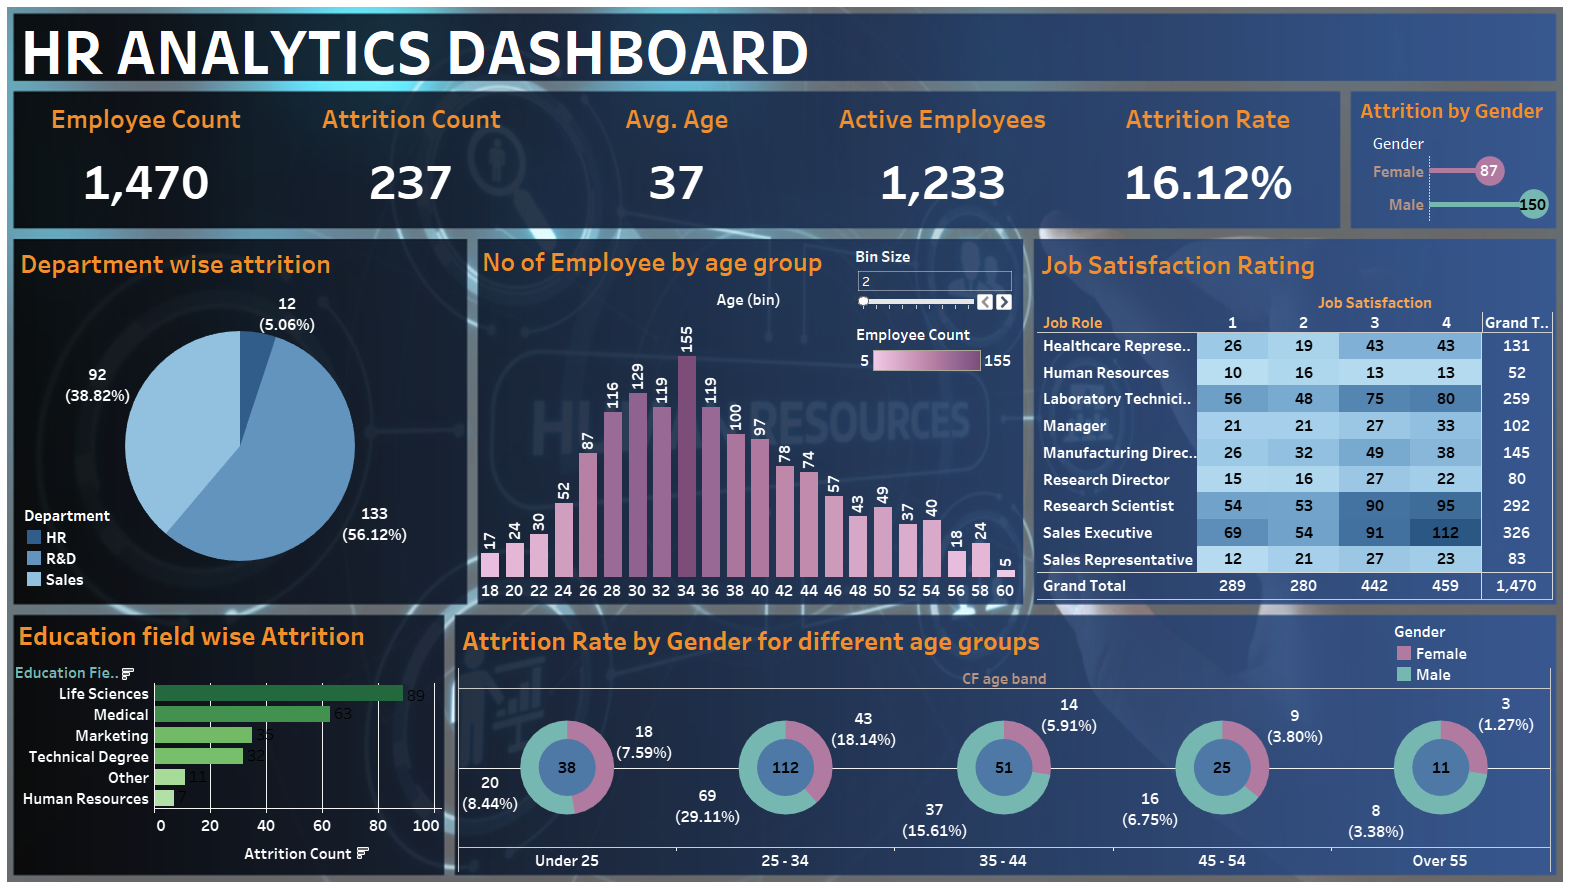

The page's visual inventory and layout, read from the dashboard file:
{"tool":"tableau","page":{"name":"HR ANALYTICS DASHBOARD","canvas":[1000,1000],"units":"permille","ordinal":0},"visuals":[{"type":"image","param":"Image/HR background.pptx.png","box":[5.1,8.9,989.9,982.2]},{"type":"text","box":[13.9,31.1,576.6,57.8]},{"type":"worksheet","title":"Attrition by Gender","mark":"Automatic","rows":["Gender"],"cols":["Calculation_1483091690155626496","Calculation_1483091690155626496"],"box":[857,107.8,129.8,143.3]},{"type":"worksheet","title":"KPI","mark":"Automatic","box":[11.4,111.1,840.5,143.3]},{"type":"worksheet","title":"No of Employee by age group","mark":"Automatic","rows":["Employee Count"],"cols":["Age (bin)"],"box":[305.7,272.2,341.8,402.2]},{"type":"worksheet","title":"Department wise attrition","mark":"Pie","box":[13.3,274.4,283.5,398.9]},{"type":"worksheet","title":"Job Satisfaction Rating","mark":"Square","rows":["Job Role"],"cols":["Job Satisfaction"],"box":[659.5,275.6,327.2,396.7]},{"type":"parameter","param":"[Parameters].[Parameter 1]","box":[544.3,278.9,101.3,78.9]},{"type":"legend","title":"No of Employee by age group","param":"[federated.15albm30slo43g1cskxu11rewq7f].[sum:Employee Count:qk]","box":[544.9,365.6,101.3,97.8]},{"type":"legend","title":"Department wise attrition","param":"[federated.15albm30slo43g1cskxu11rewq7f].[none:Department:nk]","box":[18.4,566.7,88.6,94.4]},{"type":"worksheet","title":"Education field wise Attrition","mark":"Automatic","rows":["Education Field"],"cols":["Calculation_1483091690155626496"],"box":[12,687.8,270.9,286.7]},{"type":"worksheet","title":"Attrition Rate by Gender for different age groups ","mark":"Pie","rows":["Calculation_1483091690219372548","Calculation_1483091690219372548"],"cols":["CF_age band"],"box":[293,693.3,691.8,282.2]},{"type":"legend","title":"Attrition Rate by Gender for different age groups ","param":"[federated.15albm30slo43g1cskxu11rewq7f].[none:Gender:nk]","box":[885.4,695.6,88.6,71.1]}]}

Visuals, with their boxes on the dashboard's canvas, which has no fixed pixel size, in thousandths of its width and height (x1, y1, x2, y2). These are canvas units, not pixel positions in the 1575x890 screenshot, which may show the page scaled, cropped or inside an application window:
image: box=[5, 9, 995, 991]
text: box=[14, 31, 590, 89]
"Attrition by Gender" worksheet: box=[857, 108, 987, 251]
"KPI" worksheet: box=[11, 111, 852, 254]
"No of Employee by age group" worksheet: box=[306, 272, 648, 674]
"Department wise attrition" worksheet (Pie marks): box=[13, 274, 297, 673]
"Job Satisfaction Rating" worksheet (Square marks): box=[660, 276, 987, 672]
parameter: box=[544, 279, 646, 358]
"No of Employee by age group" legend: box=[545, 366, 646, 463]
"Department wise attrition" legend: box=[18, 567, 107, 661]
"Education field wise Attrition" worksheet: box=[12, 688, 283, 974]
"Attrition Rate by Gender for different age groups " worksheet (Pie marks): box=[293, 693, 985, 976]
"Attrition Rate by Gender for different age groups " legend: box=[885, 696, 974, 767]
